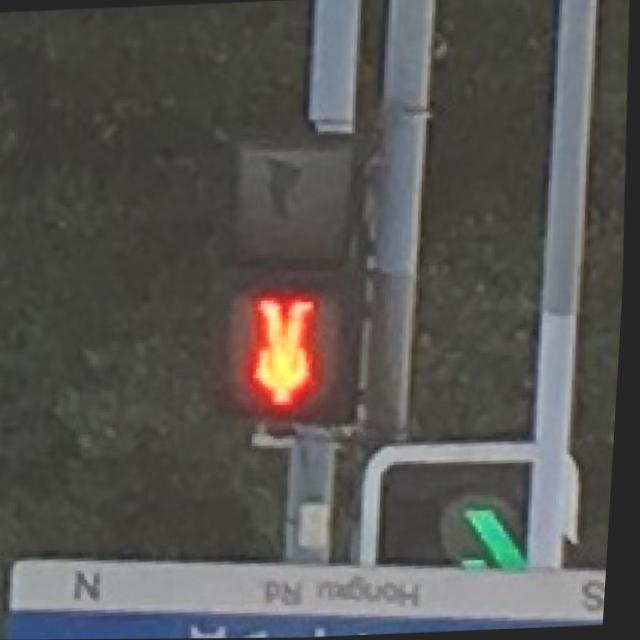red_light: (233, 287, 352, 425)
